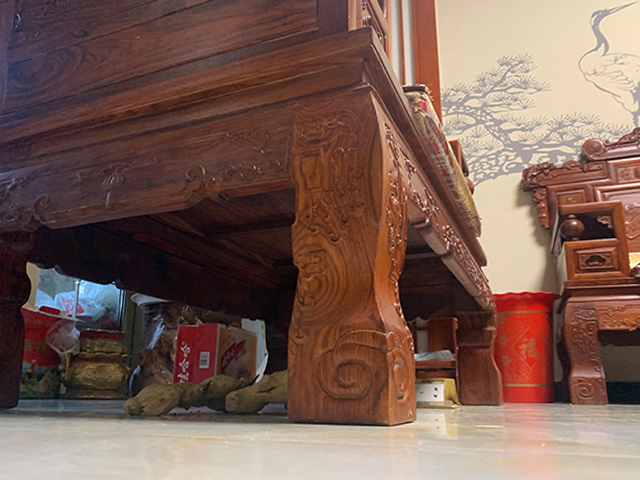sofa: (1, 1, 503, 427), (519, 125, 640, 407)
trashcan: (493, 290, 564, 405)
